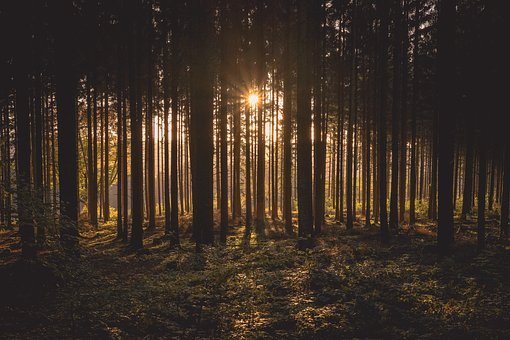forest: (7, 7, 504, 337)
tree: (12, 10, 105, 252), (79, 8, 172, 250), (146, 9, 239, 251), (265, 1, 358, 242), (405, 1, 498, 242)
